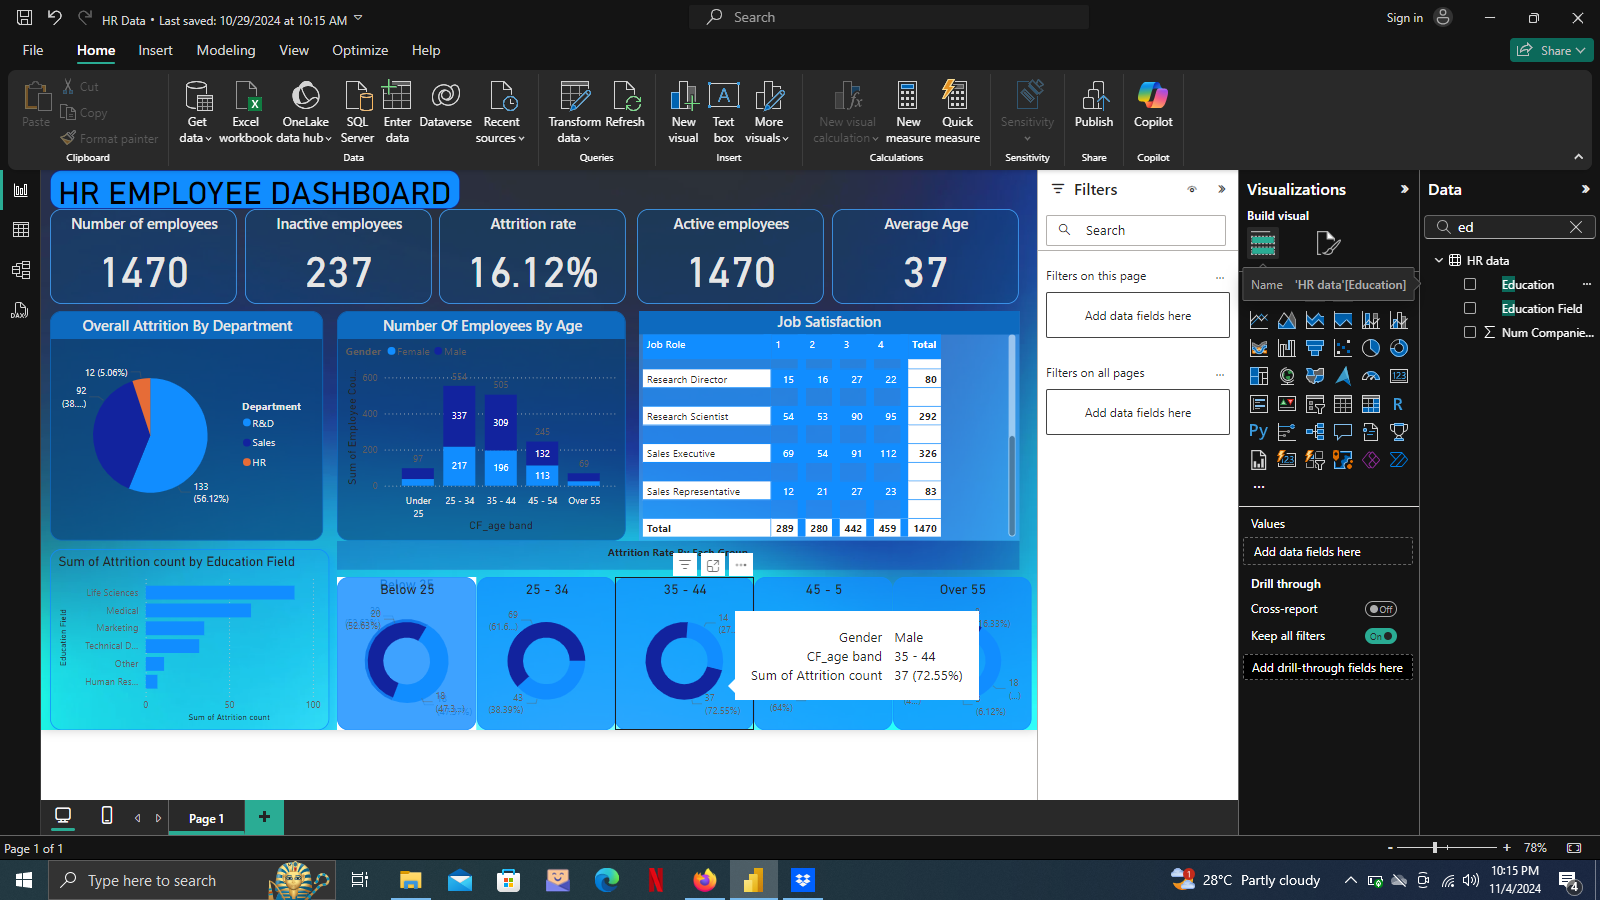

The page's visual inventory and layout, read from the dashboard file:
{"tool":"powerbi","page":{"name":"Page 1","canvas":[1280,720],"ordinal":0},"visuals":[{"type":"card","title":"Number of employees","fields":{"Values":["Sum(HR data.Employee Count)"]},"box":[11.4,50.3,240,122.3],"z":0},{"type":"card","title":"Inactive employees","fields":{"Values":["Sum(HR data.Attrition count)"]},"box":[261.7,50.3,240,122.3],"z":1000},{"type":"card","title":"Attrition rate","fields":{"Values":["HR data.rate"]},"box":[512,50.3,240,122.3],"z":2000},{"type":"card","title":"Active employees","fields":{"Values":["Sum(HR data.Employee Count)"]},"box":[765.7,50.3,240,122.3],"z":3000},{"type":"card","title":"Average Age","fields":{"Values":["Avg(HR data.Age)"]},"box":[1017.1,50.3,240,122.3],"z":4000},{"type":"pieChart","title":"Overall Attrition By Department","fields":{"Category":["HR data.Department"],"Y":["Sum(HR data.Attrition count)"],"Series":["HR data.Department"]},"box":[11.4,181.7,350.9,294.9],"z":5000},{"type":"columnChart","title":"Number Of Employees By Age","fields":{"Category":["HR data.CF_age band"],"Y":["Sum(HR data.Employee Count)"],"Series":["HR data.Gender"]},"box":[380.6,181.7,371.4,294.9],"z":6000},{"type":"pivotTable","title":"Job Satisfaction ","fields":{"Rows":["HR data.Job Role"],"Columns":["HR data.Job Satisfaction"],"Values":["Sum(HR data.Employee Count)"]},"box":[768,181.7,489.1,294.9],"z":7000},{"type":"barChart","fields":{"Category":["HR data.Education Field"],"Y":["Sum(HR data.Attrition count)"]},"box":[11.4,486.9,358.9,233.1],"z":8000},{"type":"donutChart","title":"Below 25","fields":{"Category":["HR data.Gender"],"Series":["HR data.CF_age band"],"Y":["Sum(HR data.Attrition count)"]},"box":[380.6,523.4,179,197],"z":9000},{"type":"textbox","box":[380.6,476.6,876.6,36.6],"z":10000},{"type":"donutChart","title":"Below 25","fields":{"Category":["HR data.Gender"],"Series":["HR data.CF_age band"],"Y":["Sum(HR data.Attrition count)"]},"box":[380.6,523,179,197],"z":11000},{"type":"donutChart","title":"25 - 34","fields":{"Category":["HR data.Gender"],"Series":["HR data.CF_age band"],"Y":["Sum(HR data.Attrition count)"]},"box":[560,523.4,178.3,196.6],"z":12000},{"type":"donutChart","title":"35 - 44","fields":{"Category":["HR data.Gender"],"Series":["HR data.CF_age band"],"Y":["Sum(HR data.Attrition count)"]},"box":[738.3,523.4,178.3,196.6],"z":13000},{"type":"donutChart","title":"45 - 5","fields":{"Category":["HR data.Gender"],"Series":["HR data.CF_age band"],"Y":["Sum(HR data.Attrition count)"]},"box":[916.6,523.4,178.3,196.6],"z":14000},{"type":"donutChart","title":"Over 55","fields":{"Category":["HR data.Gender"],"Series":["HR data.CF_age band"],"Y":["Sum(HR data.Attrition count)"]},"box":[1094.9,523.4,178.3,196.6],"z":15000},{"type":"textbox","title":"HR EMPLOYEE DSHBOARD","box":[11.4,0,500.6,50.3],"z":16000}]}

Visuals, with their boxes on the page's 1280x720 design canvas (x1, y1, x2, y2). These are canvas units, not pixel positions in the 1600x900 screenshot, which may show the page scaled, cropped or inside an application window:
"Number of employees" card: bbox=(11, 50, 251, 173)
"Inactive employees" card: bbox=(262, 50, 502, 173)
"Attrition rate" card: bbox=(512, 50, 752, 173)
"Active employees" card: bbox=(766, 50, 1006, 173)
"Average Age" card: bbox=(1017, 50, 1257, 173)
"Overall Attrition By Department" pieChart: bbox=(11, 182, 362, 477)
"Number Of Employees By Age" columnChart: bbox=(381, 182, 752, 477)
"Job Satisfaction " pivotTable: bbox=(768, 182, 1257, 477)
barChart - HR data.Education Field x Sum(HR data.Attrition count): bbox=(11, 487, 370, 720)
"Below 25" donutChart: bbox=(381, 523, 560, 720)
textbox: bbox=(381, 477, 1257, 513)
"Below 25" donutChart: bbox=(381, 523, 560, 720)
"25 - 34" donutChart: bbox=(560, 523, 738, 720)
"35 - 44" donutChart: bbox=(738, 523, 917, 720)
"45 - 5" donutChart: bbox=(917, 523, 1095, 720)
"Over 55" donutChart: bbox=(1095, 523, 1273, 720)
"HR EMPLOYEE DSHBOARD" textbox: bbox=(11, 0, 512, 50)
